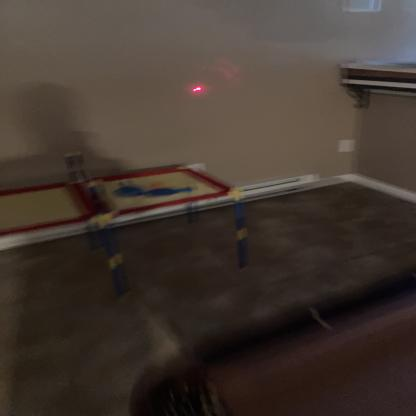target: (189, 82, 204, 95)
